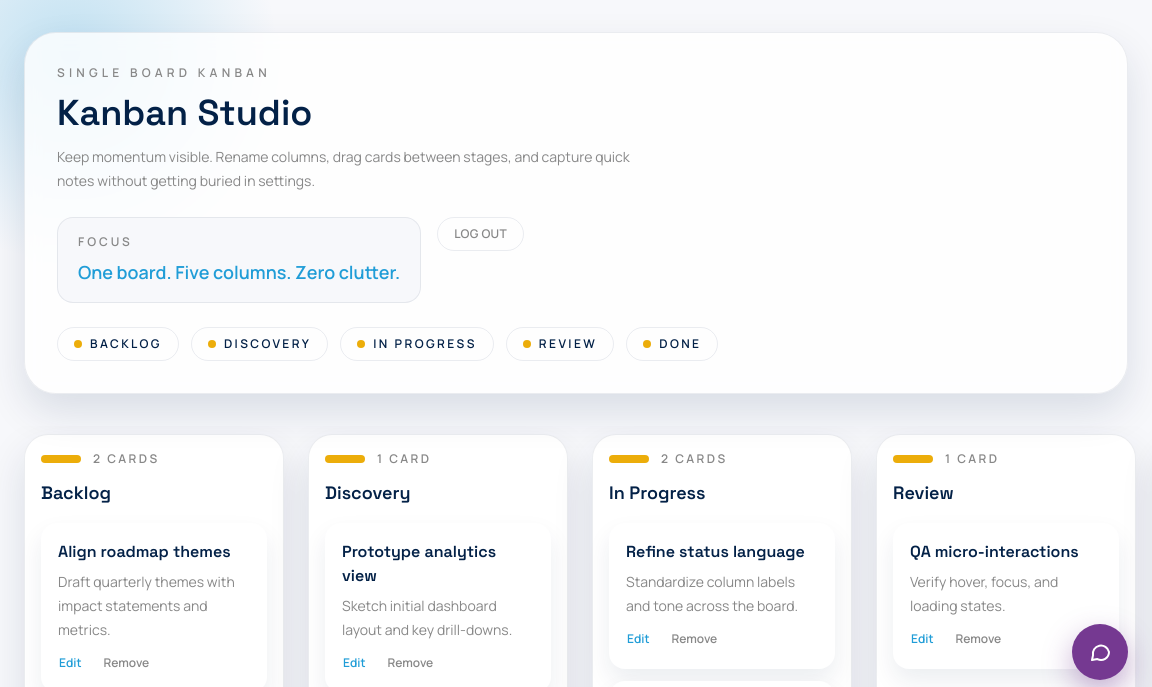
Test: KanbanBoard › edits a card and saves it
This screenshot has width=1152, height=687.
Click the button with aria-label "edit align roadmap themes". click: (70, 663)
box: x1=50 y1=650 x2=90 y2=676
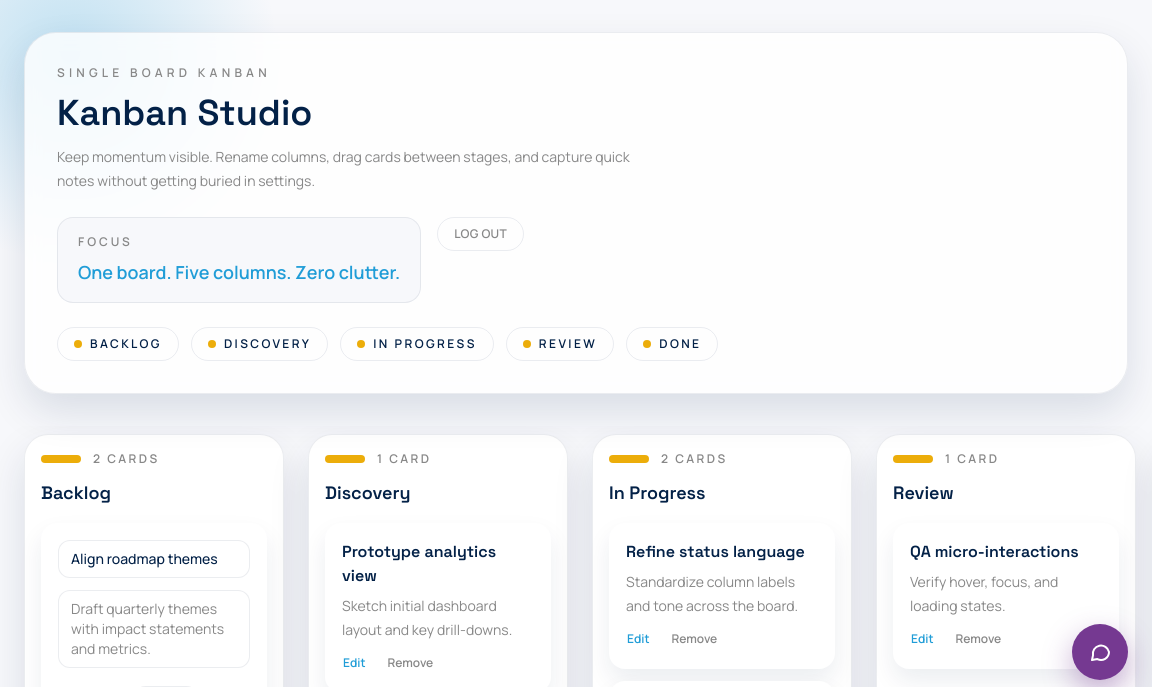
Check: the field named "Card title" holds "Align roadmap themes"
Replace the text in the field named "Card title" with "Edited title". click: (154, 559)
box: x1=58 y1=540 x2=250 y2=578
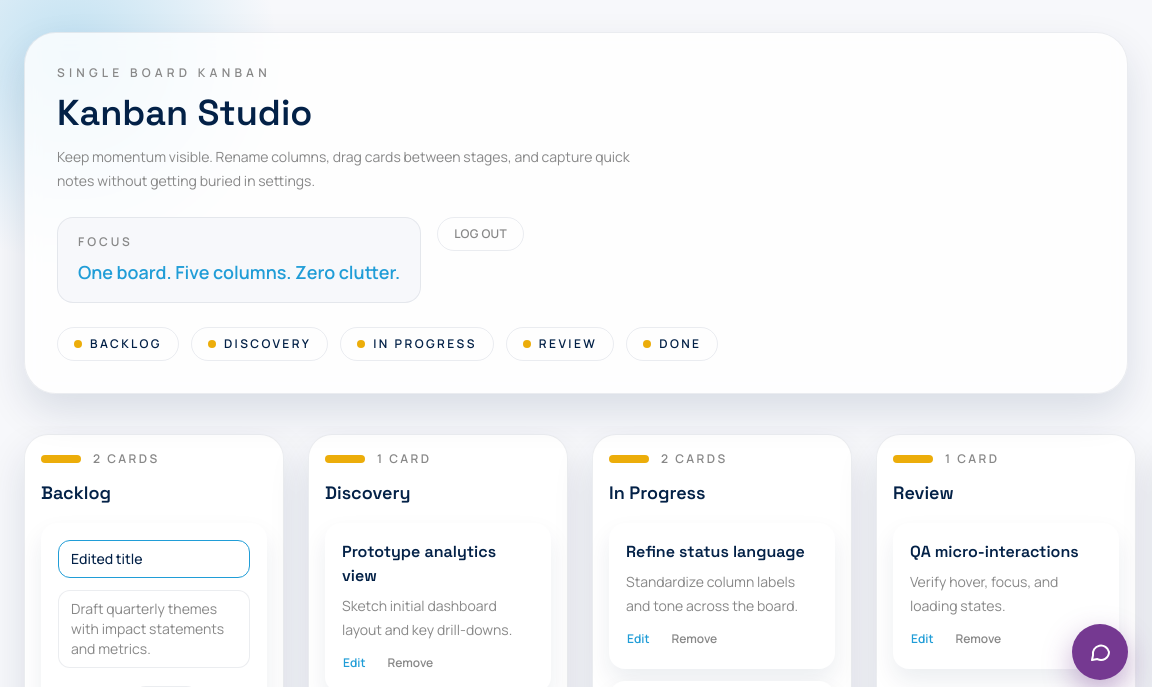
Replace the text in the text box named "Card details" with "Edited details". click: (154, 629)
box: x1=58 y1=590 x2=250 y2=668
(page scrolled)
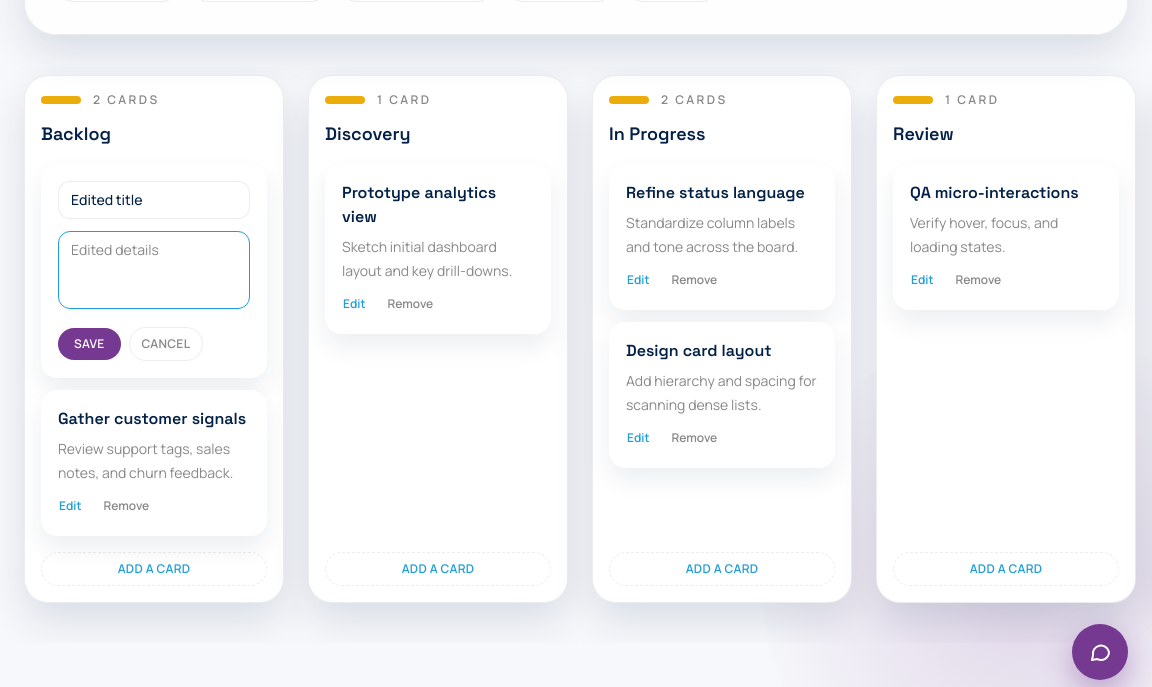
Click the button "Save". click: (89, 344)
box: x1=58 y1=328 x2=120 y2=360
(page scrolled)
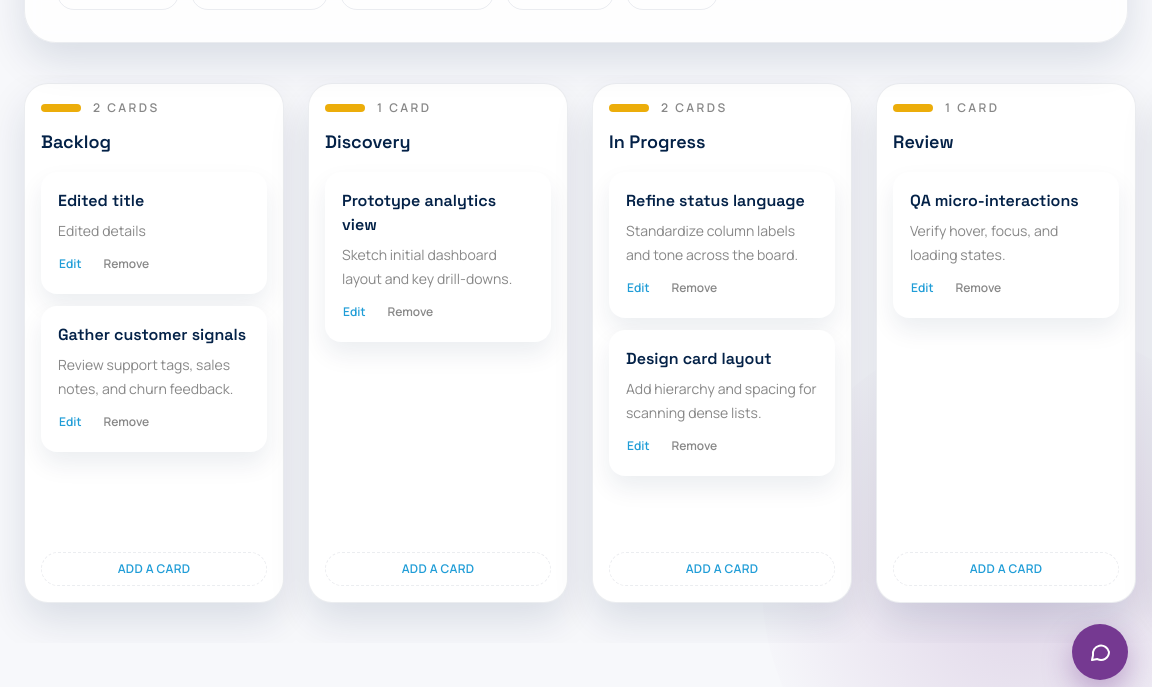
Check: the heading "Edited title" is shown, box x1=58 y1=190 x2=144 y2=211
Check: the text "Edited details" is shown, box x1=58 y1=221 x2=146 y2=240
